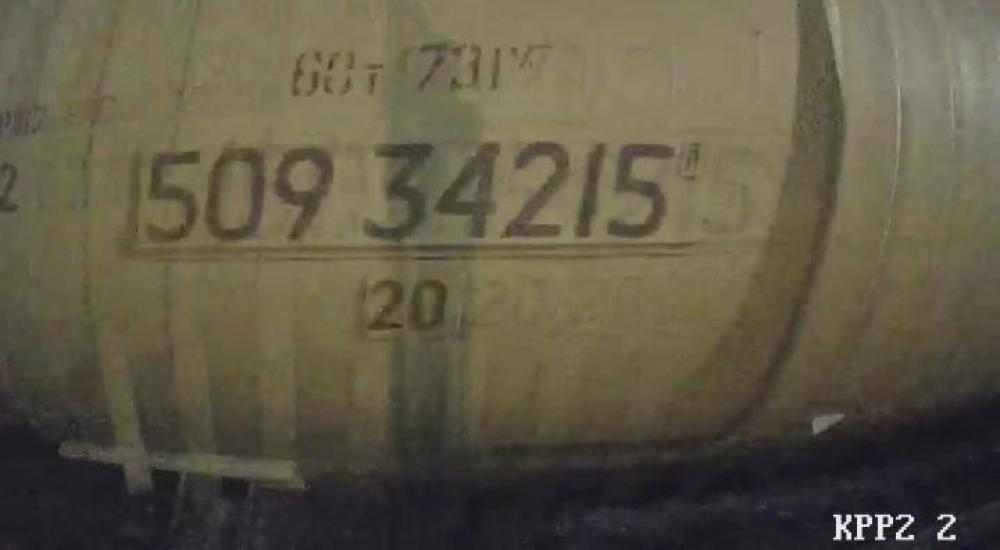Wagon-number: (143, 137, 676, 244)
